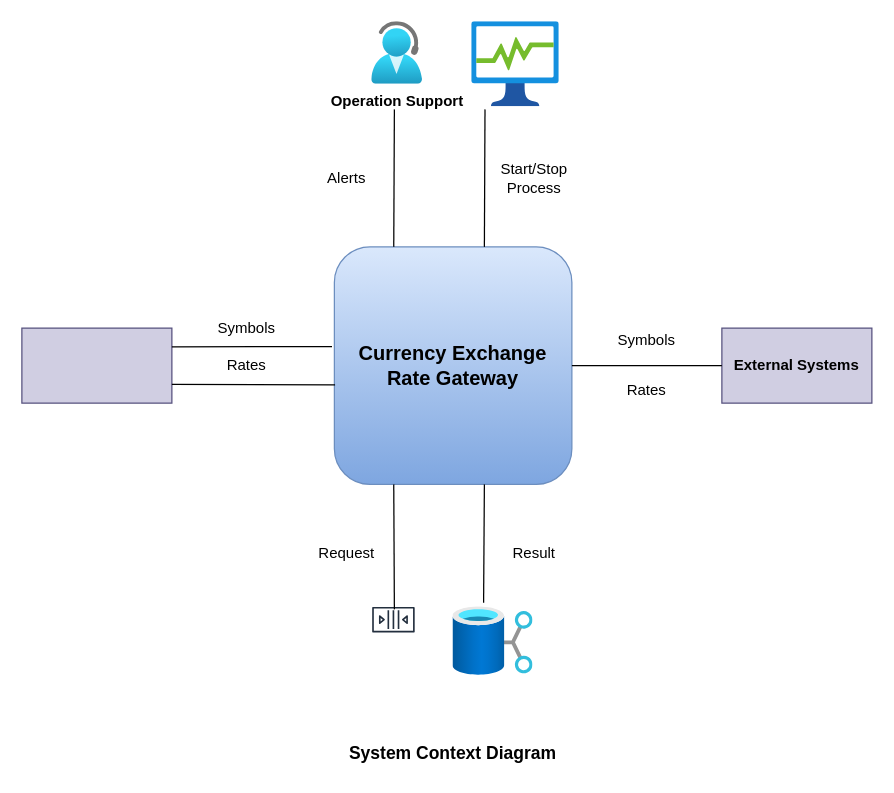
The diagram is 894 pixels wide and 793 high, and some of its shapes have lost their labels. The shapes that lost their labels are listed below. From the top down, each one's centre as x and y in pixels, then its label:
At [96,365]: "Client Applications".
At [393,619]: "Queue".
